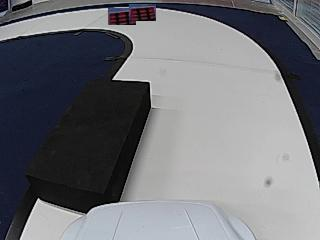block: (30, 79, 150, 209)
